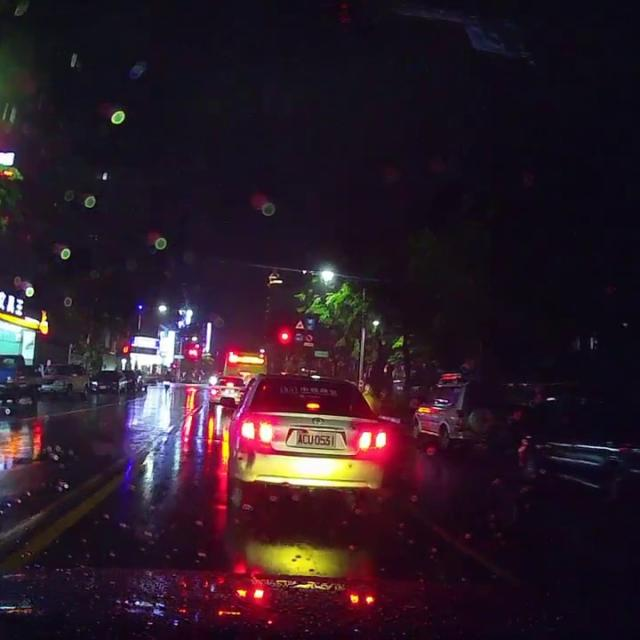Car: (217, 372, 400, 507), (501, 387, 639, 505), (402, 368, 505, 458), (42, 361, 89, 401), (205, 374, 247, 406), (89, 365, 126, 393)
